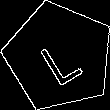L_NW: (33, 27, 86, 86)
